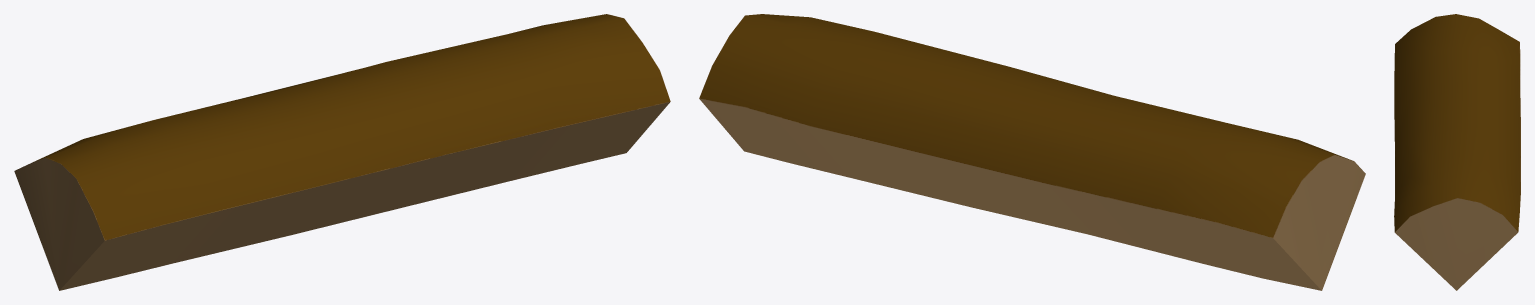
File: Log1.FBX
3 views of the same model, side by side, from view 1: azimuth 30°, elevation 25°; view 2: azimuth 150°, elevation 25°; view 3: azimuth 270°, elevation 25° (orthographic). The views are drawn at different scales.
Visible parts, largest first — view 1: log1_LP; view 2: log1_LP; view 3: log1_LP.
Part boxes in pixels (x1=…): log1_LP: x1=14, y1=14, x2=670, y2=290; log1_LP: x1=699, y1=14, x2=1365, y2=290; log1_LP: x1=1394, y1=14, x2=1520, y2=290.
Bounding box in the file's own units: 14.05 × 3.22 × 3.96.
1 material, 1 textured.
